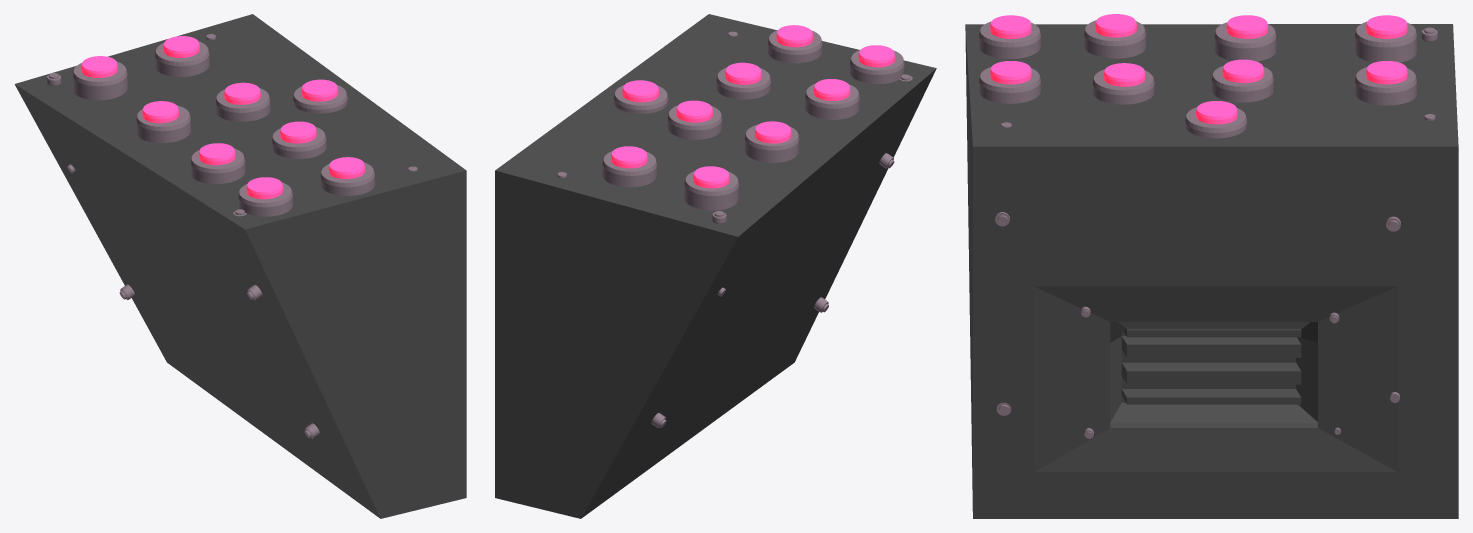
Rendered from button pannel 1.2.fbx.
3 renders of one model, left to right at view 1: azimuth 30°, elevation 25°; view 2: azimuth 150°, elevation 25°; view 3: azimuth 270°, elevation 25°, orthographic. The views are drawn at different scales.
Visible parts, largest first — view 1: Cube, Cylinder.005, Cylinder.003, Cylinder.013, Cylinder.015, Cylinder.011, Cylinder.001, Cylinder.009, Cylinder.007, Cylinder.021, Cylinder.022, button 2 (+8 smaller); view 2: Cube, Cylinder.005, Cylinder.003, Cylinder.015, Cylinder.013, Cylinder.011, Cylinder.001, Cylinder.009, Cylinder.007, Cylinder.021, button 3, button 8 (+8 smaller); view 3: Cube, Cylinder.005, Cylinder.003, Cylinder.015, Cylinder.013, Cylinder.001, Cylinder.011, Cylinder.009, Cylinder.007, Cylinder.021, button 7, button 3 (+8 smaller).
Boxes of the visible parts, box(x1,y1,x2,y2) form: Cube: box(14, 14, 466, 518); Cylinder.005: box(73, 61, 127, 100); Cylinder.003: box(136, 105, 191, 143); Cylinder.013: box(190, 148, 245, 183); Cylinder.015: box(155, 41, 209, 76); Cylinder.011: box(215, 88, 270, 121); Cylinder.001: box(238, 182, 293, 216); Cylinder.009: box(320, 162, 375, 195); Cylinder.007: box(271, 127, 326, 158); Cylinder.021: box(293, 85, 347, 113); Cylinder.022: box(301, 79, 338, 101); button 2: box(199, 143, 235, 165); Cube: box(495, 14, 936, 518); Cylinder.005: box(684, 171, 738, 210); Cylinder.003: box(744, 124, 799, 162); Cylinder.015: box(602, 151, 656, 187); Cylinder.013: box(805, 83, 859, 119); Cylinder.011: box(667, 105, 722, 139); Cylinder.001: box(849, 50, 904, 84); Cylinder.009: box(767, 30, 822, 63); Cylinder.007: box(716, 67, 770, 99); Cylinder.021: box(613, 85, 668, 113); button 3: box(754, 121, 791, 143); button 8: box(611, 146, 647, 168); Cube: box(965, 24, 1458, 518); Cylinder.005: box(1354, 21, 1416, 62); Cylinder.003: box(1214, 22, 1276, 61); Cylinder.015: box(1355, 67, 1416, 105); Cylinder.013: box(1084, 20, 1145, 58); Cylinder.001: box(979, 21, 1040, 58); Cylinder.011: box(1211, 66, 1273, 102); Cylinder.009: box(979, 67, 1040, 103); Cylinder.007: box(1092, 69, 1154, 104); Cylinder.021: box(1185, 107, 1247, 138); button 7: box(1222, 59, 1264, 83); button 3: box(1226, 15, 1268, 38).
Bounding box in the file's own units: 92.89 × 125 × 142.
